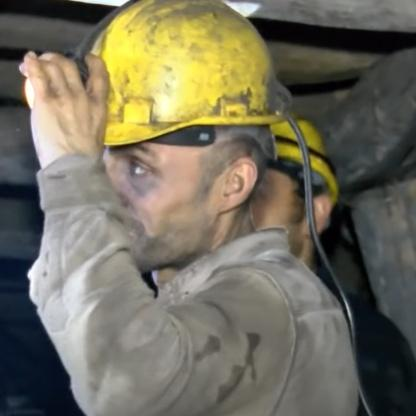helmet: (67, 0, 266, 249)
